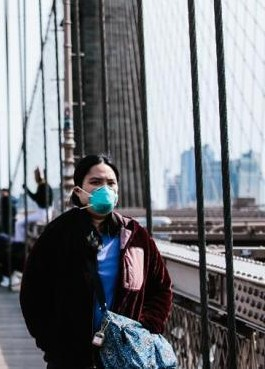with_mask: (77, 158, 121, 216)
